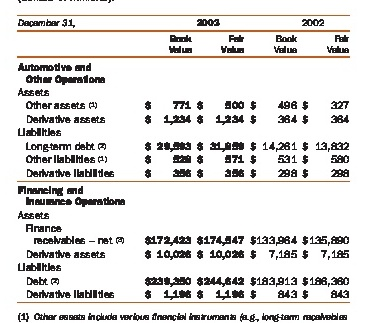table: (0, 0, 372, 323)
